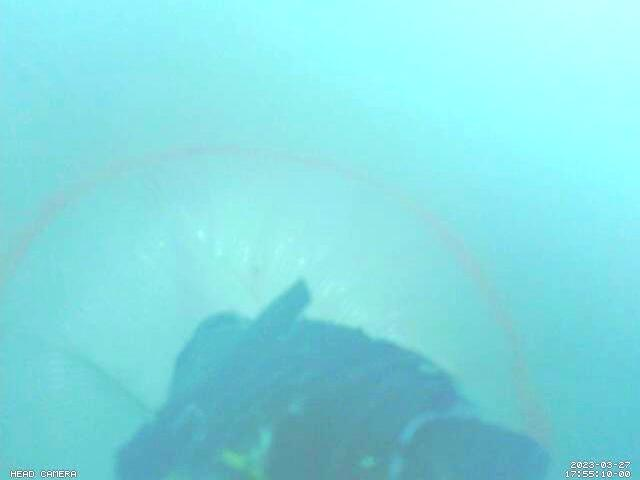head: (0, 144, 551, 452)
